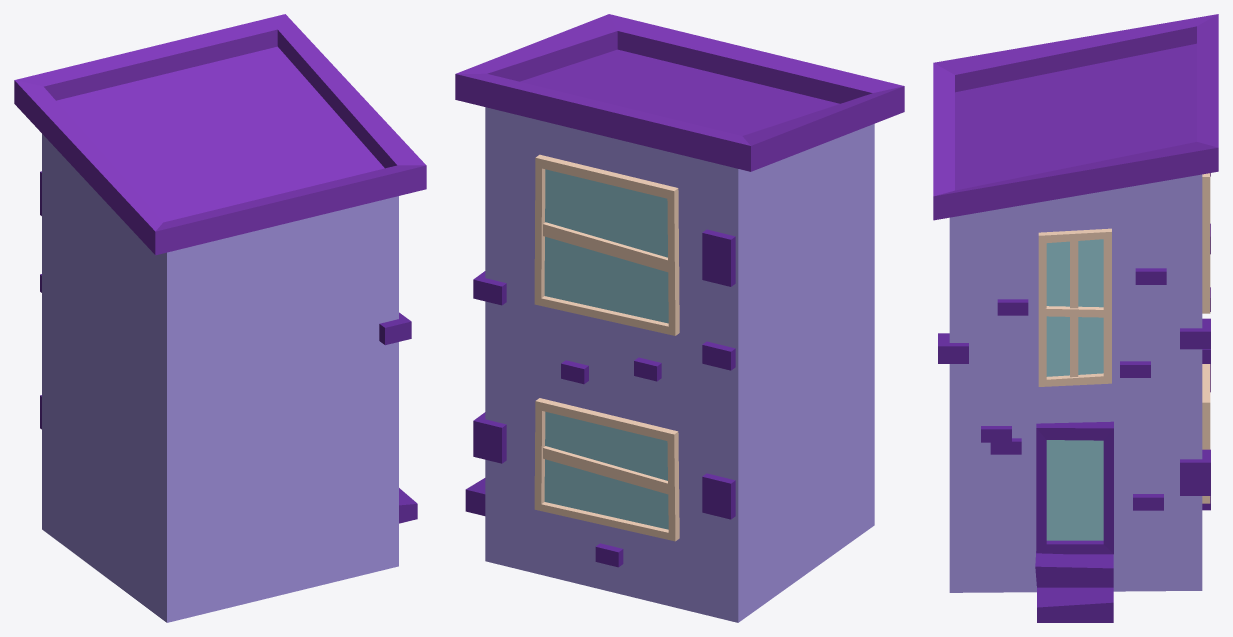
File: Purplle_house_Big_1.fbx
3 views of the same model, side by side, from view 1: azimuth 30°, elevation 25°; view 2: azimuth 150°, elevation 25°; view 3: azimuth 270°, elevation 25° (orthographic). The views are drawn at different scales.
Visible parts, largest first — view 1: Purplle house Big 1; view 2: Purplle house Big 1; view 3: Purplle house Big 1.
Part boxes in pixels (<box>): Purplle house Big 1: <box>14,14,426,622</box>; Purplle house Big 1: <box>455,14,904,622</box>; Purplle house Big 1: <box>933,14,1218,622</box>.
Size of the model in its own units: 1194 by 1639 by 930.
